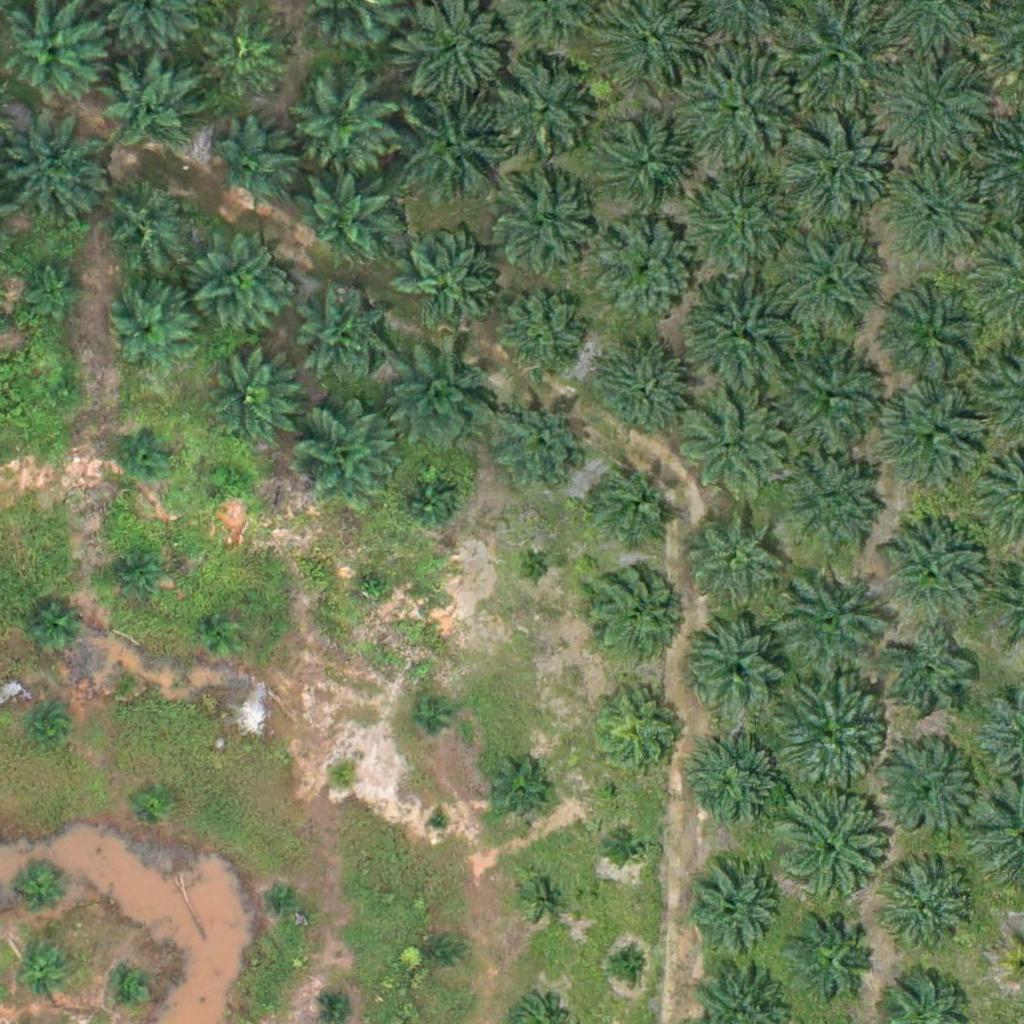Kelapa_Sawit: (677, 270, 802, 396), (674, 163, 799, 289), (674, 41, 799, 167), (775, 114, 900, 240), (768, 334, 893, 460), (870, 52, 995, 178), (766, 671, 891, 796), (766, 790, 891, 915), (397, 94, 510, 207), (388, 343, 501, 456), (773, 227, 886, 340), (878, 517, 991, 630), (775, 448, 888, 561), (772, 566, 885, 679), (880, 277, 992, 390), (677, 393, 789, 506), (295, 167, 395, 268), (190, 236, 290, 337), (101, 54, 201, 155), (94, 173, 194, 274), (396, 234, 496, 335), (493, 182, 593, 283), (491, 61, 591, 162), (597, 220, 697, 321), (593, 345, 693, 446), (881, 629, 981, 730), (876, 738, 976, 839), (679, 499, 779, 600), (690, 616, 790, 717), (687, 735, 787, 836), (684, 863, 784, 964), (582, 454, 682, 555), (584, 560, 684, 661), (589, 681, 689, 782), (295, 408, 395, 509), (291, 77, 391, 177), (892, 172, 992, 272), (886, 389, 986, 489), (198, 348, 298, 448), (887, 867, 975, 956), (210, 121, 298, 209), (203, 13, 291, 101), (297, 291, 385, 379), (600, 125, 688, 213), (791, 918, 879, 1006), (108, 288, 195, 377), (497, 399, 584, 488), (496, 292, 583, 380), (484, 762, 547, 825), (24, 256, 86, 319), (25, 605, 75, 656), (15, 863, 65, 914), (403, 476, 453, 527), (20, 947, 70, 997), (109, 550, 159, 600), (122, 427, 172, 477), (420, 934, 458, 972), (212, 462, 250, 500), (203, 613, 241, 651), (355, 569, 393, 607), (517, 550, 555, 588), (323, 759, 361, 797), (614, 828, 652, 866), (113, 971, 150, 1009), (608, 945, 645, 983), (526, 878, 563, 916), (46, 374, 83, 412), (407, 698, 444, 736), (104, 659, 141, 697), (30, 709, 67, 746), (135, 782, 172, 819), (266, 880, 303, 917), (426, 808, 451, 833)
